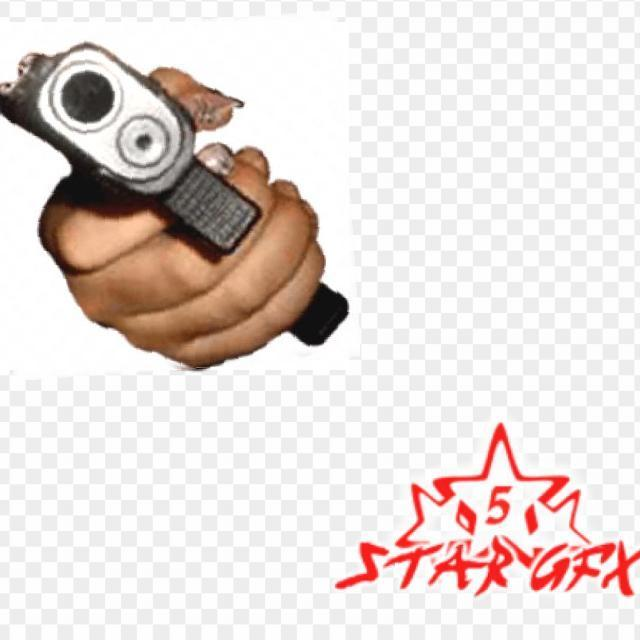handgun: (0, 16, 354, 375)
